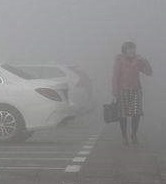person: (104, 41, 153, 148)
